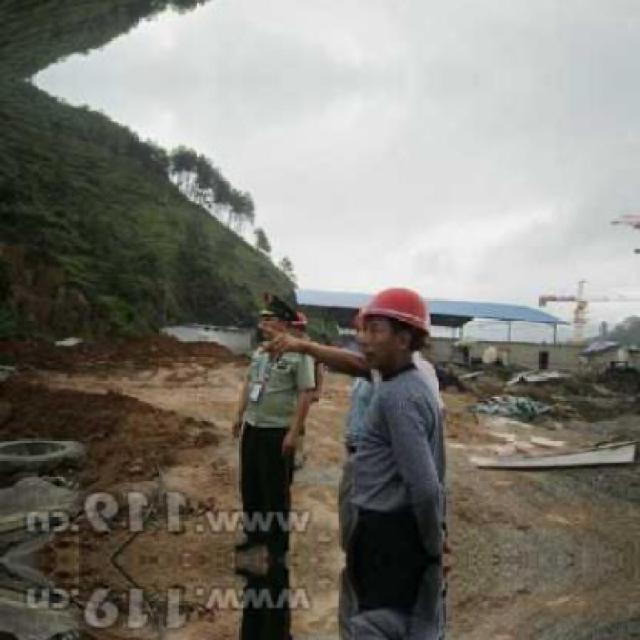con casco: (342, 285, 451, 378), (255, 289, 320, 352)
